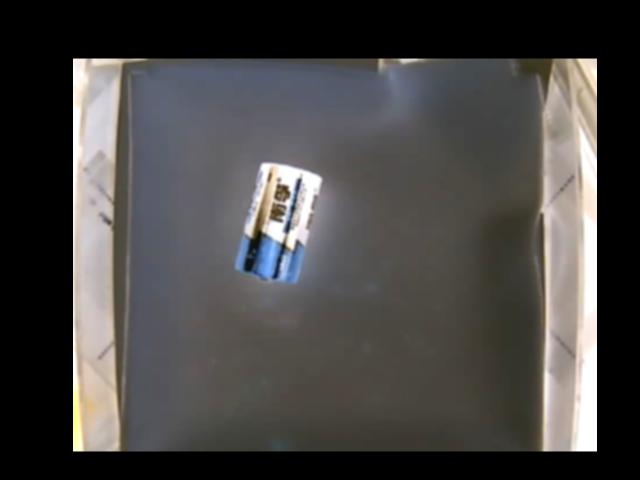Battery: (233, 162, 323, 284)
